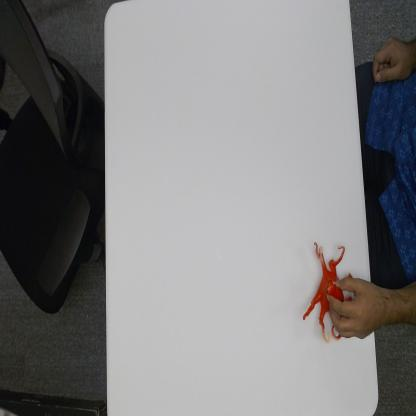Hand: (324, 272, 384, 342)
Octopus: (300, 239, 356, 344)
